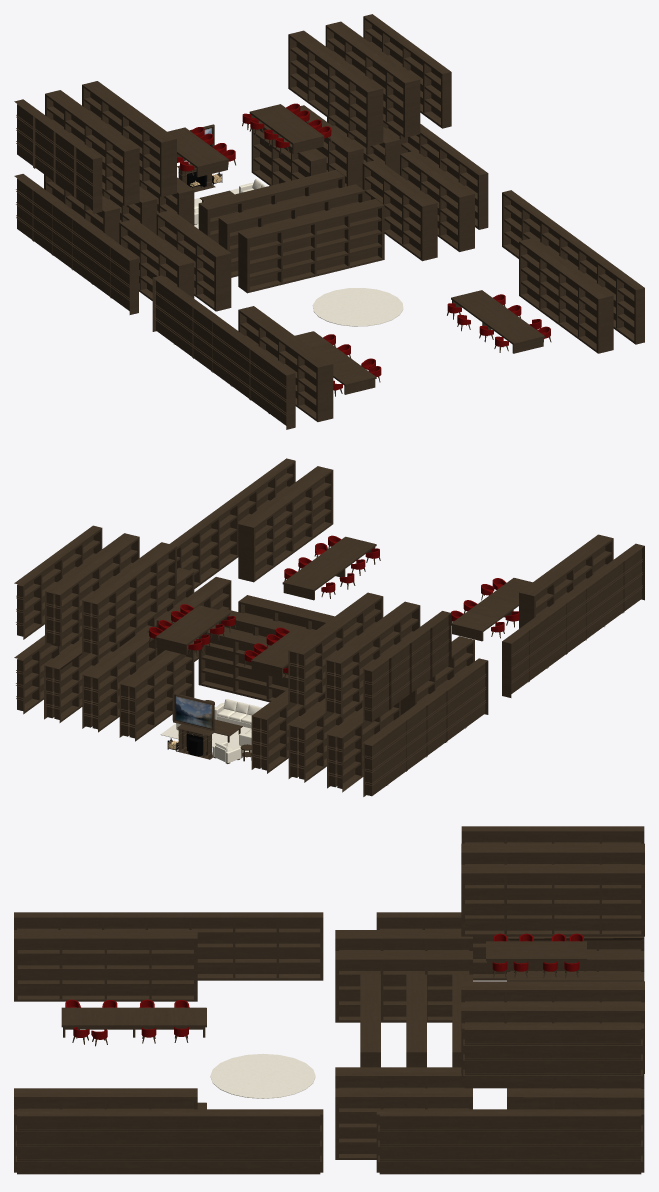
Rendered from library_main.glb.
3 views of the same model, one above another, from view 1: azimuth 30°, elevation 25°; view 2: azimuth 150°, elevation 25°; view 3: azimuth 270°, elevation 25° (orthographic). The views are drawn at different scales.
Visible parts, largest first — view 1: bookshelves, rug.001, table2, table4, table, chairs_2, table3, chairs_1; view 2: bookshelves, table2, table, table4, chairs_1, chairs_2, table3, picture_frame_geo1, fireplace, large_sofa.001, rug; view 3: bookshelves, rug.001, table, table3, chairs_1, chairs_2.
Boxes of the visible parts, x1,y1,x2,y2 form: bookshelves: (14,14,644,429); rug.001: (312,288,403,326); table2: (451,290,544,353); table4: (249,104,324,153); table: (295,331,376,394); chairs_2: (177,103,331,171); table3: (167,127,228,177); chairs_1: (323,294,550,390); bookshelves: (14,458,644,796); table2: (282,536,376,600); table: (451,578,532,641); table4: (155,605,230,654); chairs_1: (284,535,518,632); chairs_2: (149,604,289,673); table3: (251,628,312,678); picture_frame_geo1: (172,693,214,732); fireplace: (177,724,214,759); large_sofa.001: (214,699,261,728); rug: (160,707,251,756); bookshelves: (14,826,644,1174); rug.001: (210,1054,315,1098); table: (61,1007,206,1037); table3: (486,941,586,971); chairs_1: (65,999,189,1039); chairs_2: (492,933,583,971).
Bounding box in the file's own units: 26.26 × 9.04 × 34.6.
3 materials, 3 textured.
